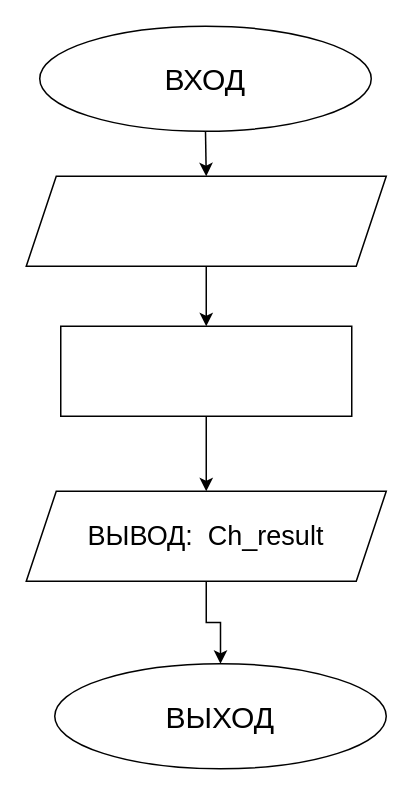
This 413x795 diagram has some shape labels left out. Here are the shapes that lost their labels. From the top down, the centre of each, then its label:
(x=205, y=220): ВВОД: Character
(x=205, y=370): Ch_result = chr(Character)
